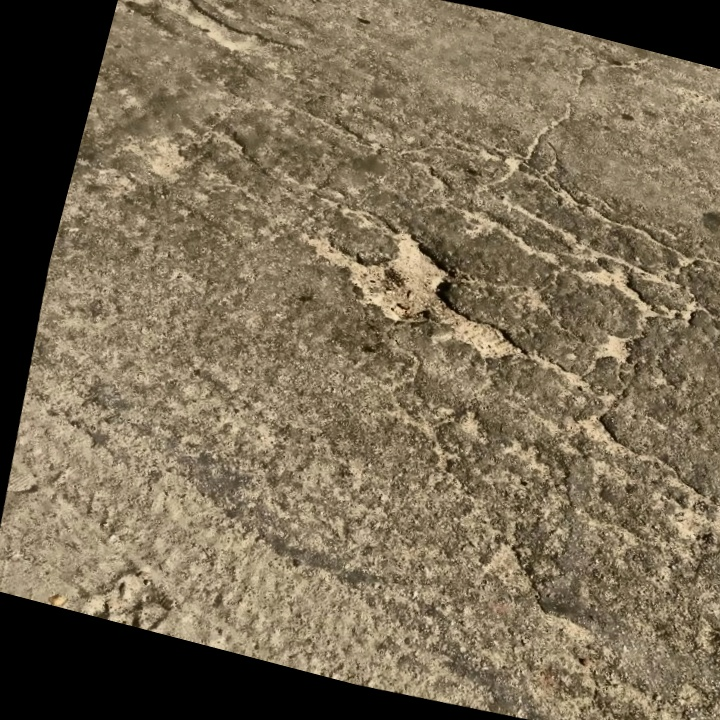pothole: (281, 195, 548, 380)
